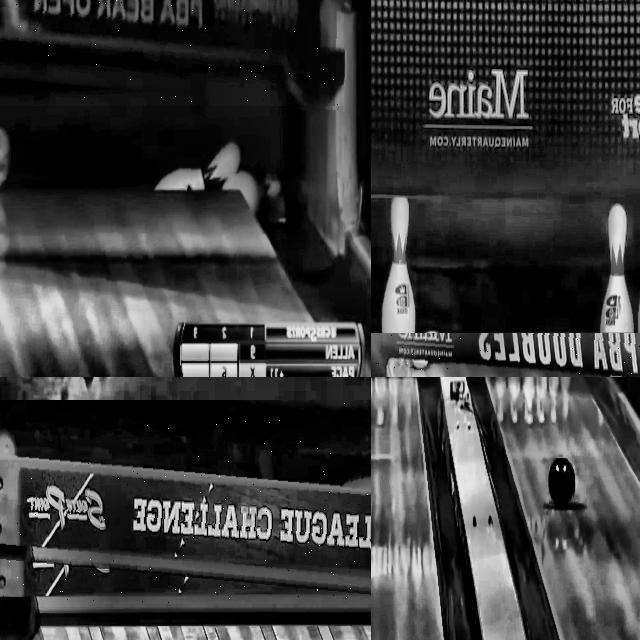bowling-ball: (549, 458, 574, 506)
bowling-pins: (381, 196, 414, 336), (600, 204, 634, 333)
sweep board: (0, 470, 371, 598), (371, 334, 640, 377)
